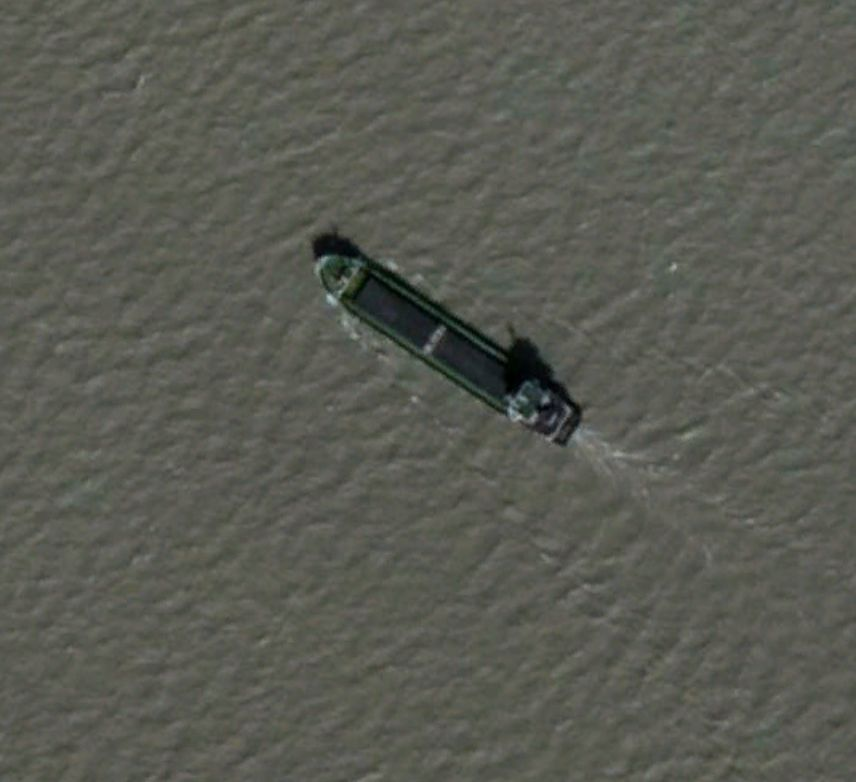boat: (309, 244, 586, 445)
